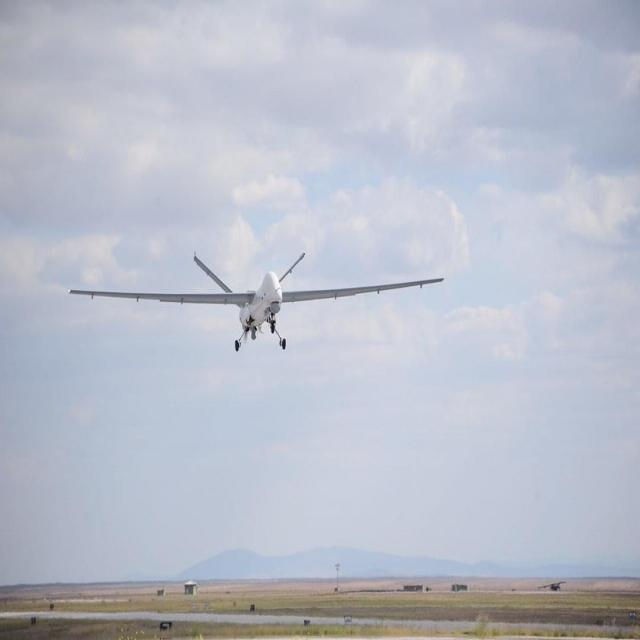iha: (61, 274, 458, 331)
